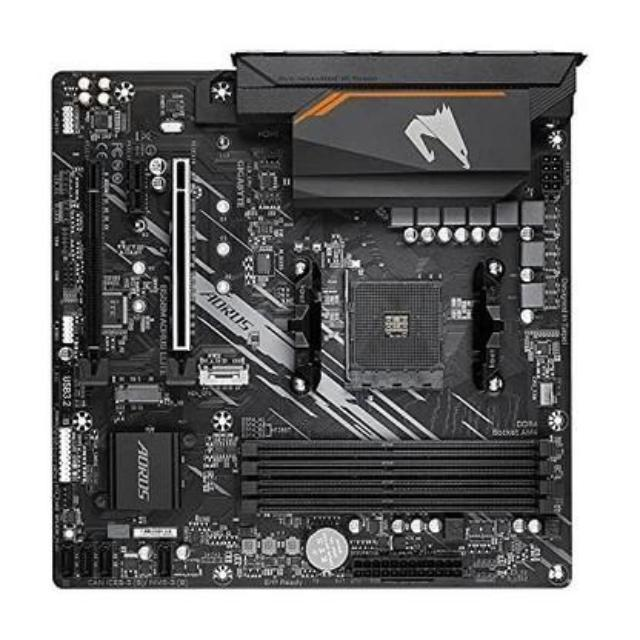Mainboard: (44, 55, 582, 602)
